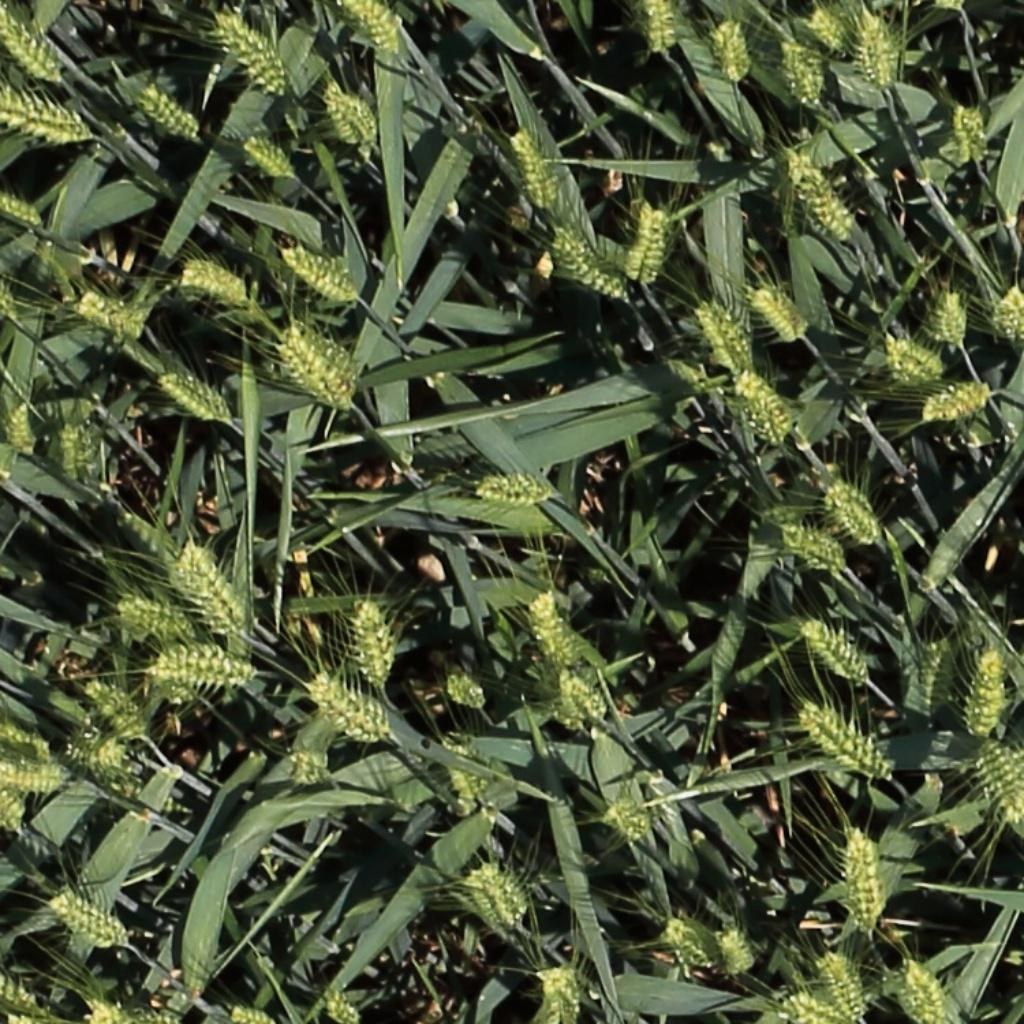0-0: (786, 143, 857, 243), (181, 543, 252, 636), (278, 327, 354, 410), (808, 705, 890, 779), (214, 15, 290, 94), (311, 674, 391, 744), (969, 644, 1003, 808), (554, 229, 629, 300), (0, 2, 62, 84), (696, 294, 756, 378), (802, 619, 872, 689), (737, 365, 794, 447), (618, 200, 670, 287), (510, 124, 561, 212), (49, 895, 129, 947), (0, 88, 88, 135), (81, 679, 147, 741), (323, 76, 378, 150), (532, 588, 578, 675), (283, 247, 357, 301), (472, 862, 527, 933), (820, 947, 871, 1022), (151, 647, 254, 684), (157, 371, 230, 423), (899, 955, 955, 1022), (779, 36, 828, 111), (827, 486, 886, 547), (137, 83, 200, 139), (850, 827, 882, 937), (348, 0, 404, 62), (709, 606, 749, 690), (752, 283, 808, 342), (66, 728, 134, 776), (357, 595, 390, 693), (883, 331, 943, 383), (865, 6, 899, 96), (177, 263, 252, 303), (779, 525, 849, 567), (558, 670, 610, 726), (117, 600, 195, 637), (951, 96, 991, 167), (918, 634, 950, 718), (76, 296, 144, 335), (924, 385, 993, 420), (0, 963, 46, 1015), (719, 12, 749, 90), (243, 133, 296, 177), (779, 992, 850, 1024), (992, 286, 1024, 356), (60, 413, 88, 492), (720, 921, 755, 984), (477, 477, 553, 506), (808, 6, 854, 53), (542, 966, 581, 1021), (940, 281, 968, 352), (0, 180, 42, 225), (8, 394, 35, 461), (606, 804, 649, 842), (287, 752, 335, 786), (446, 674, 488, 712), (648, 0, 674, 60), (0, 775, 25, 836), (322, 987, 361, 1024), (88, 1006, 178, 1022), (0, 771, 65, 790), (0, 251, 17, 319), (228, 1006, 273, 1024)
